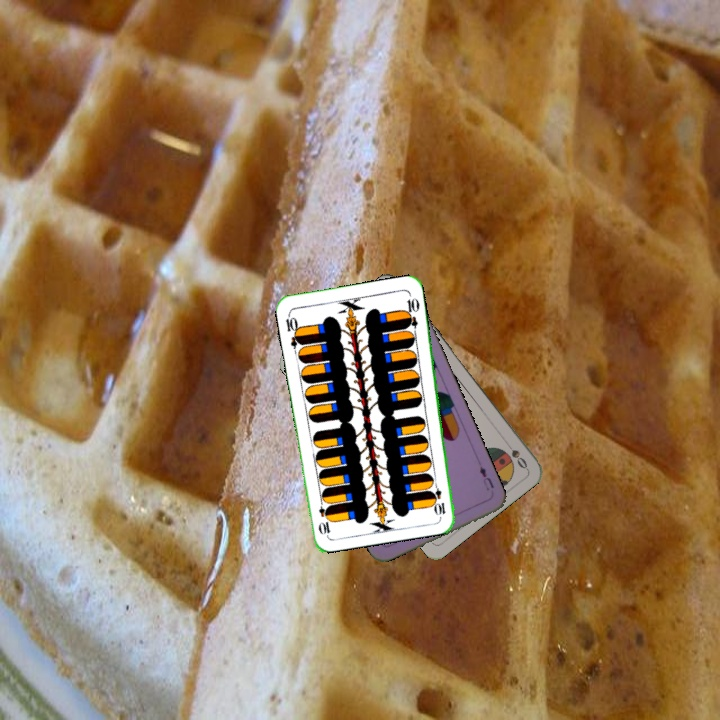E10: (281, 310, 304, 350), (429, 477, 448, 518)
EU: (475, 462, 496, 493)
SO: (501, 437, 530, 472)
